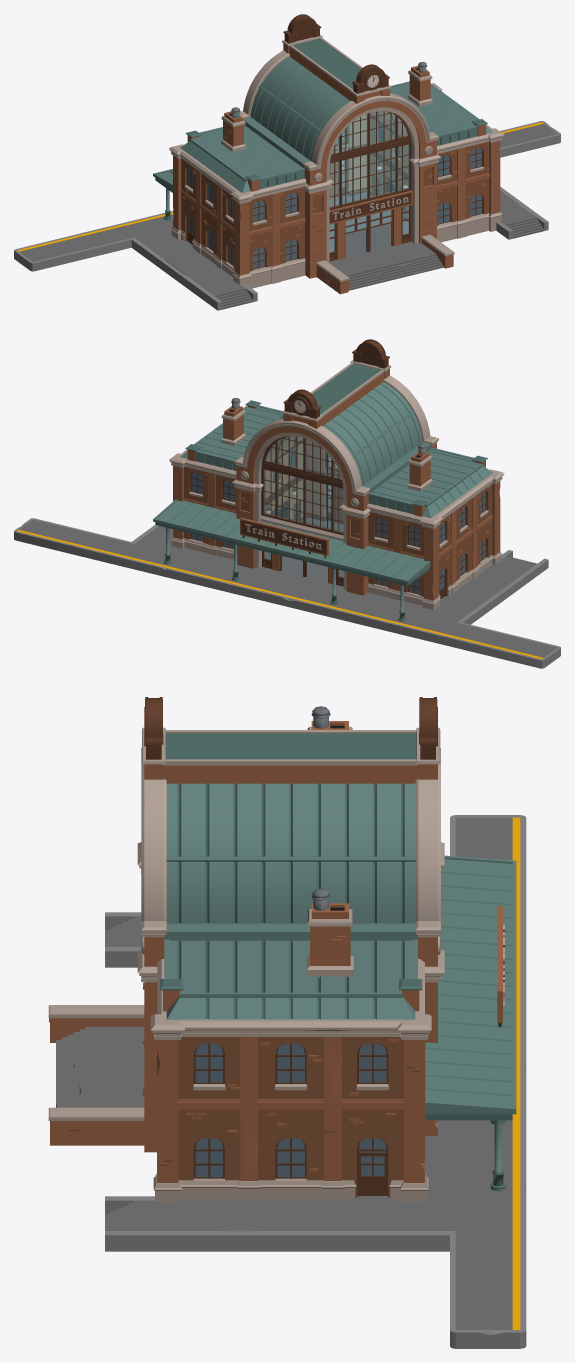
Rendered from SM_Buildings_Railway_01.fbx.
The picture shows the model from 3 angles, top to bottom: view 1: azimuth 30°, elevation 25°; view 2: azimuth 150°, elevation 25°; view 3: azimuth 270°, elevation 25°; orthographic projection. The views are drawn at different scales.
Parts seen in each view (by area): view 1: SM_Buildings_Railway_01; view 2: SM_Buildings_Railway_01; view 3: SM_Buildings_Railway_01.
Part boxes in pixels (box(x1,y1,x2,y2)): SM_Buildings_Railway_01: box(14, 14, 560, 310); SM_Buildings_Railway_01: box(14, 339, 560, 668); SM_Buildings_Railway_01: box(48, 697, 526, 1348).
Bounding box in the file's own units: 62.5 × 21.98 × 24.37.
